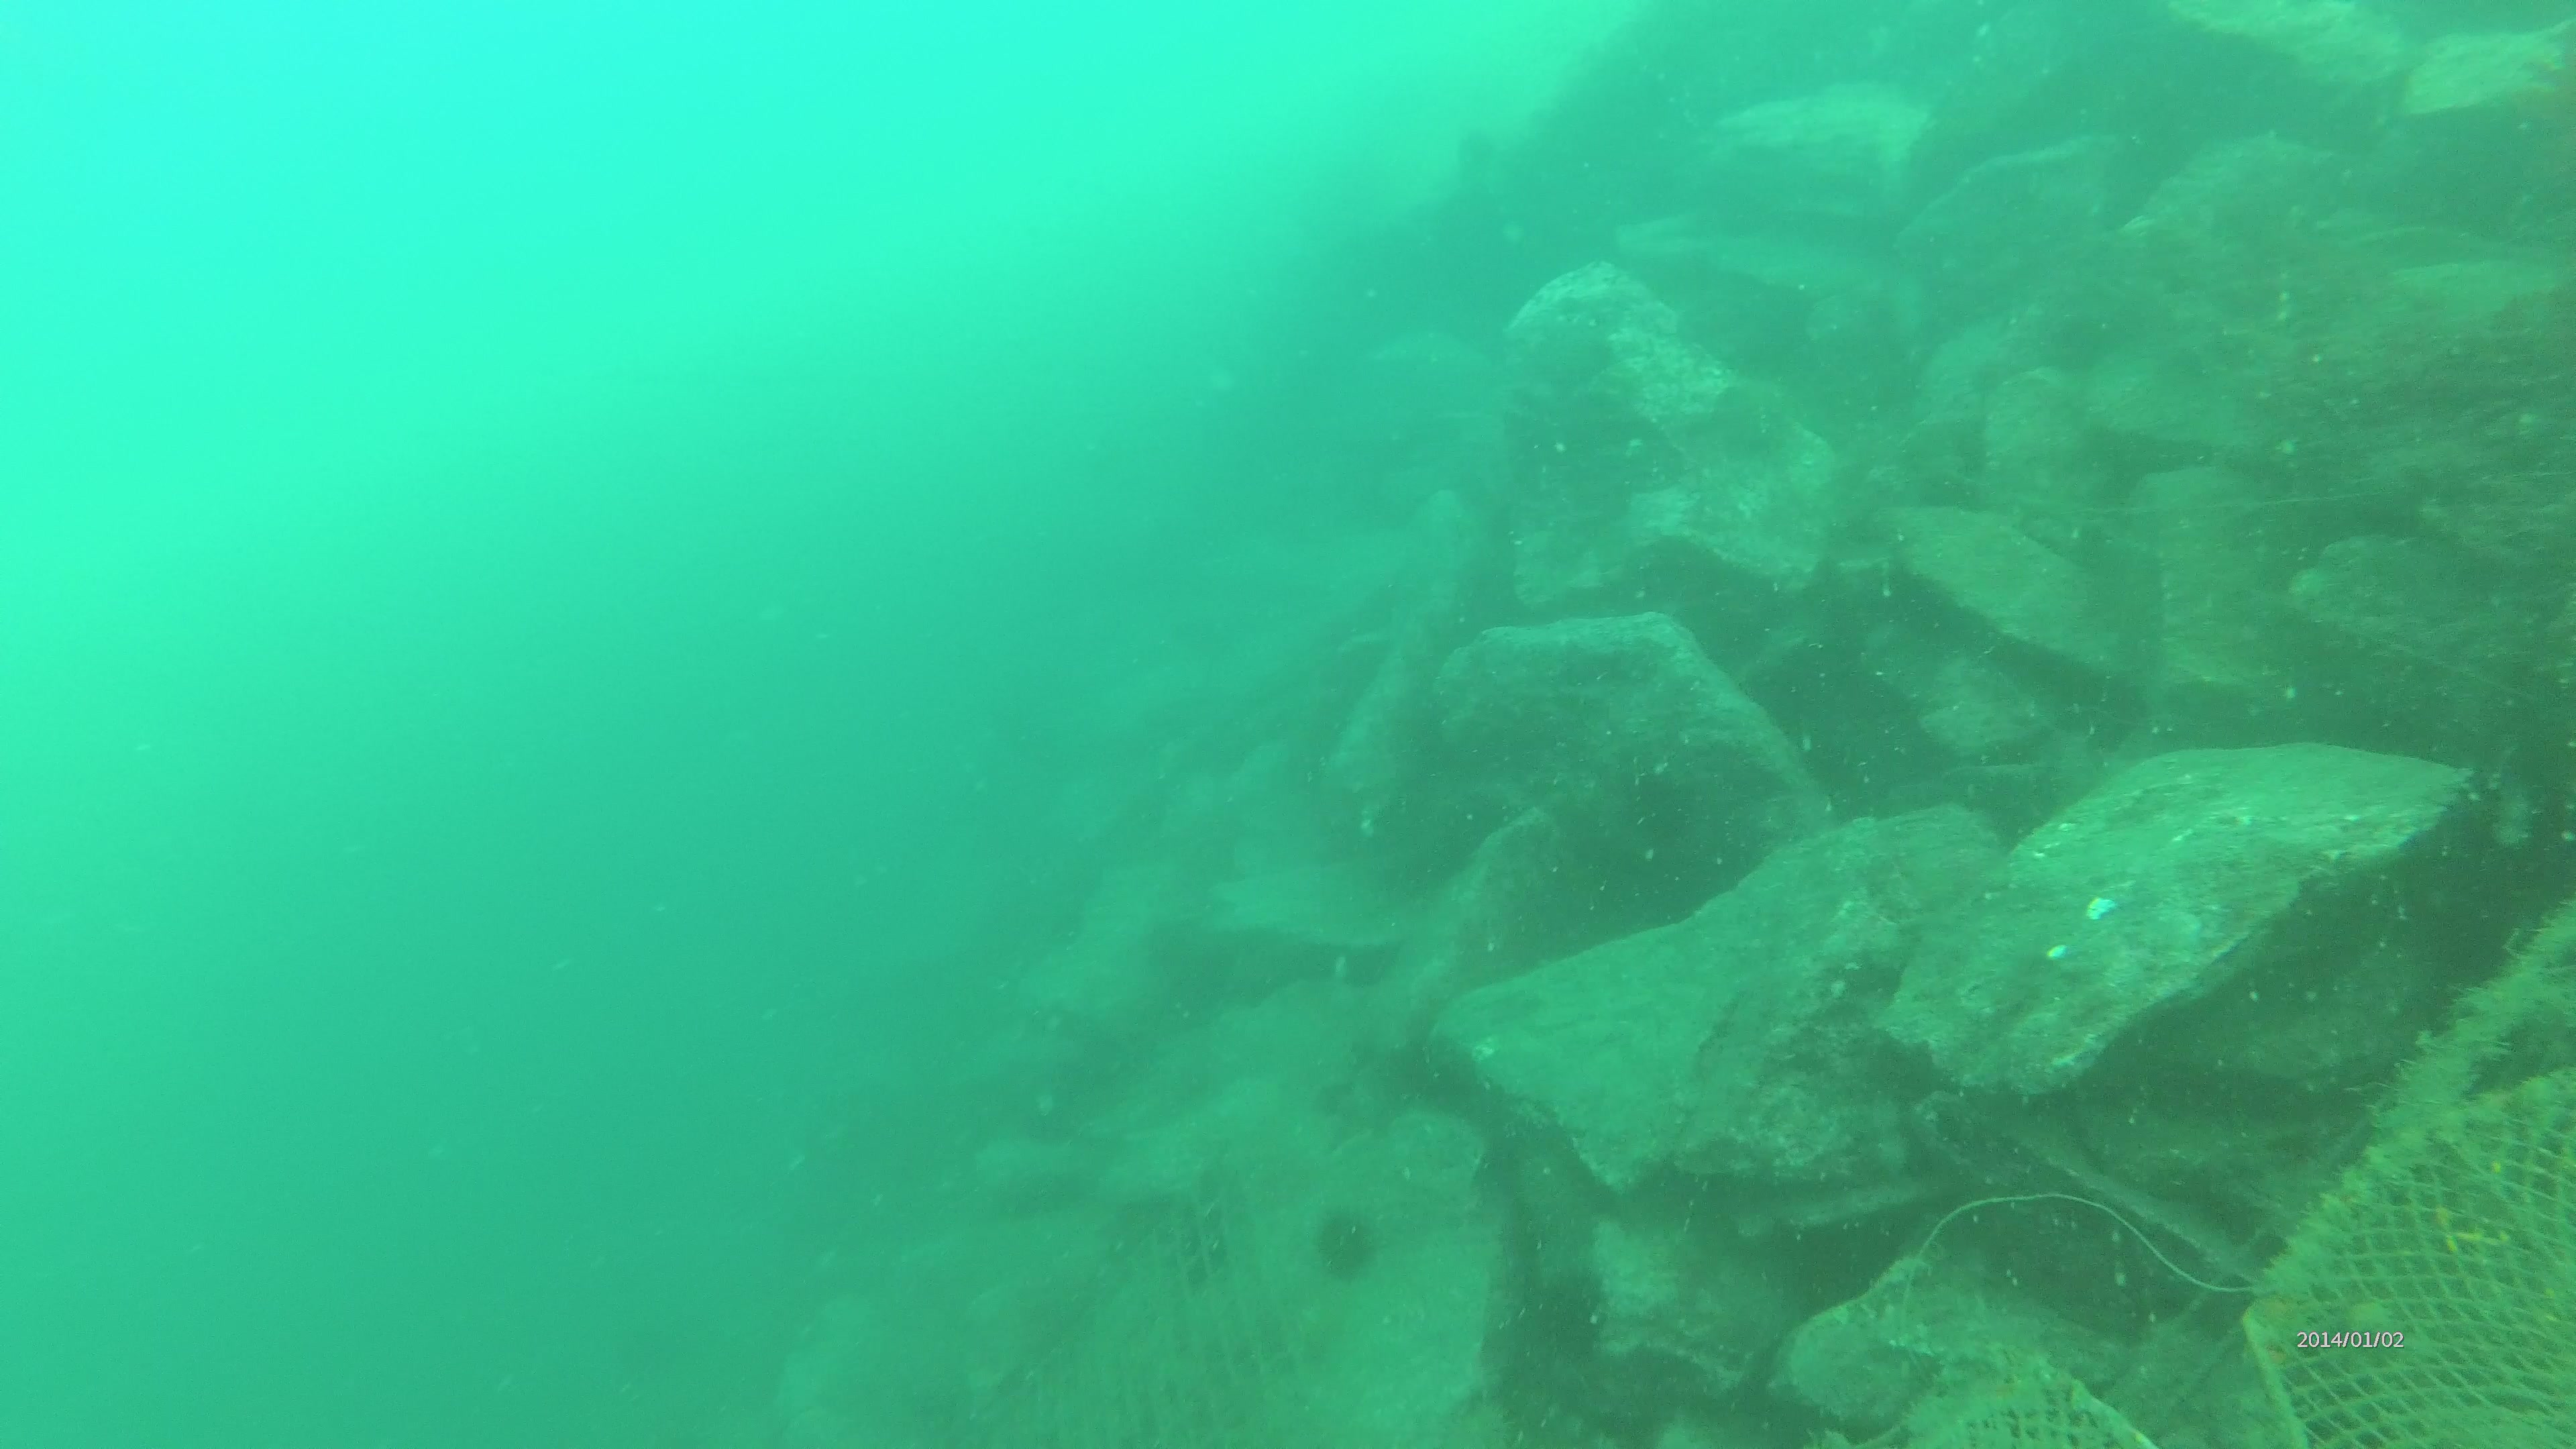echinus: (1302, 1203, 1366, 1277)
